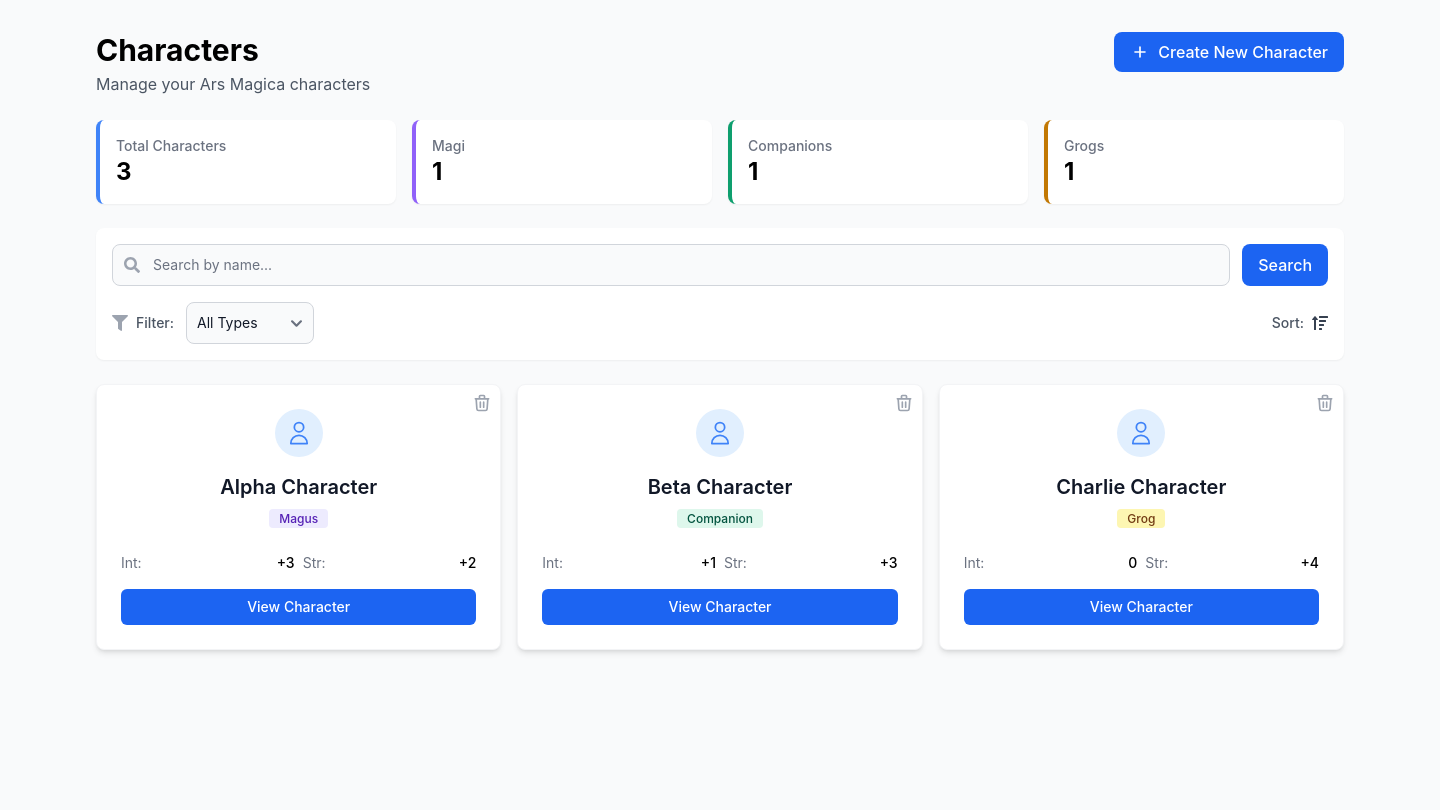
Test: CharacterListPage › opens delete modal when delete button is clicked
The image size is (1440, 810).
Expected: the heading "Alpha Character" is shown, [220,473,377,501]
Find the delete button within the first character tile
Click the 1st button named "Delete character": (482, 403) [472,393,492,413]
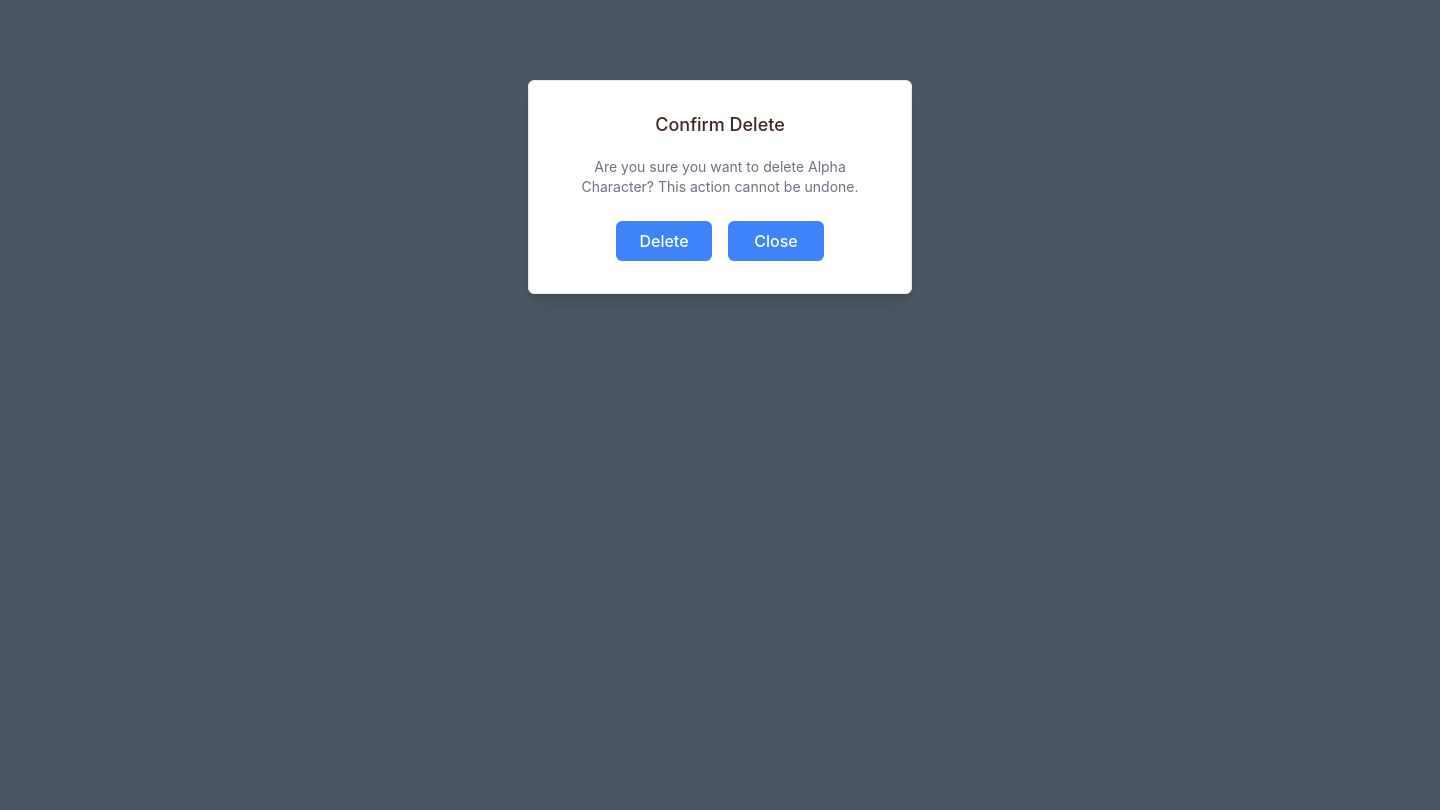
Expected: the heading "Confirm Delete" is shown, [655,114,785,135]
Expected: the text "Are you sure you want to delete Alpha Character" is shown, [577,157,863,197]
